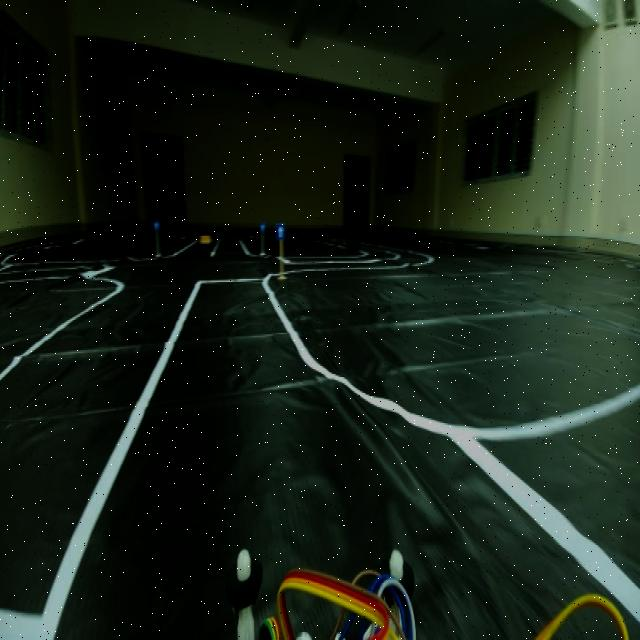onewayroad: (274, 220, 287, 242), (259, 221, 268, 237), (154, 220, 162, 236)
roadblock: (195, 233, 215, 244)
